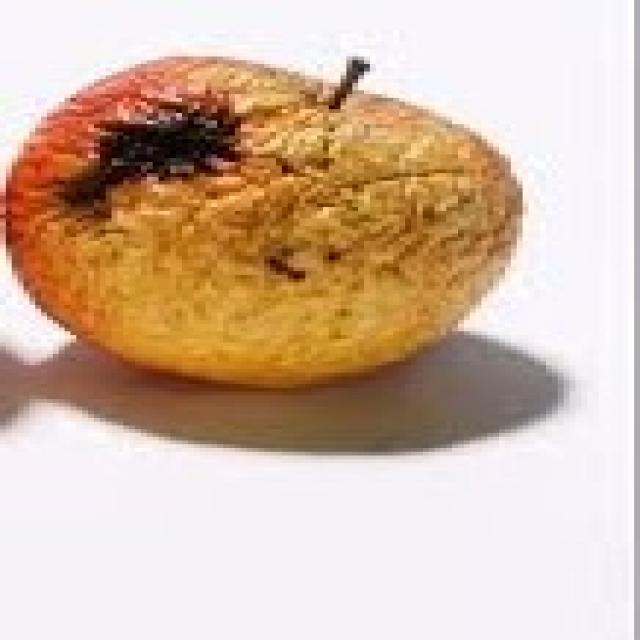overripe: (0, 48, 531, 397)
